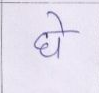e_matra: (47, 11, 68, 30)
